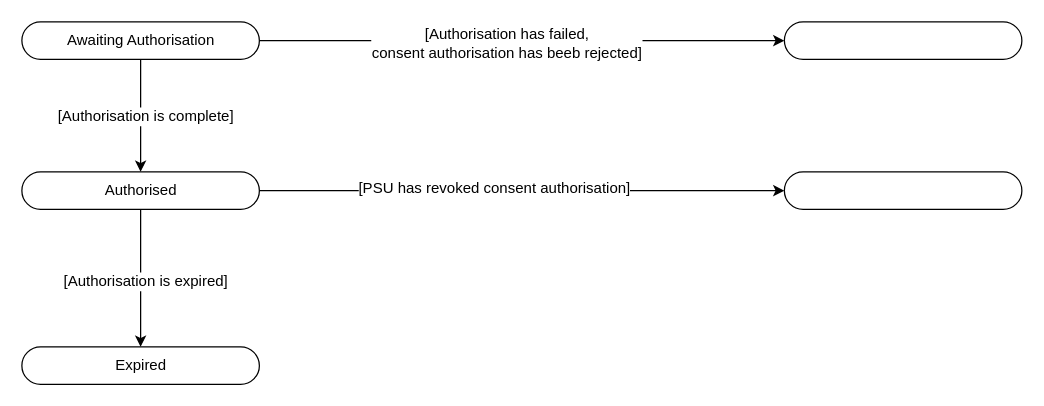
Some shapes in this 1044 by 406 pixel diagram are drawn without their labels. Here are the shapes that lost their labels. From the top down, the centre of each, then its label:
(x=902, y=40): Rejected
(x=902, y=190): Revoked
